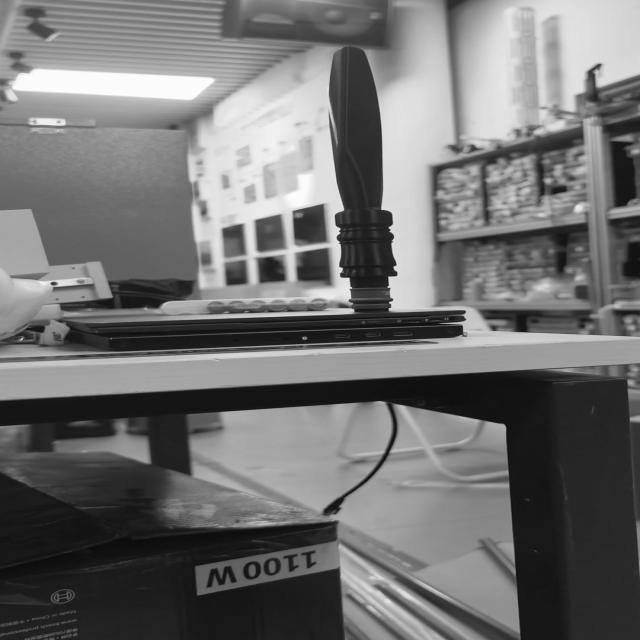base: (344, 284, 401, 321)
